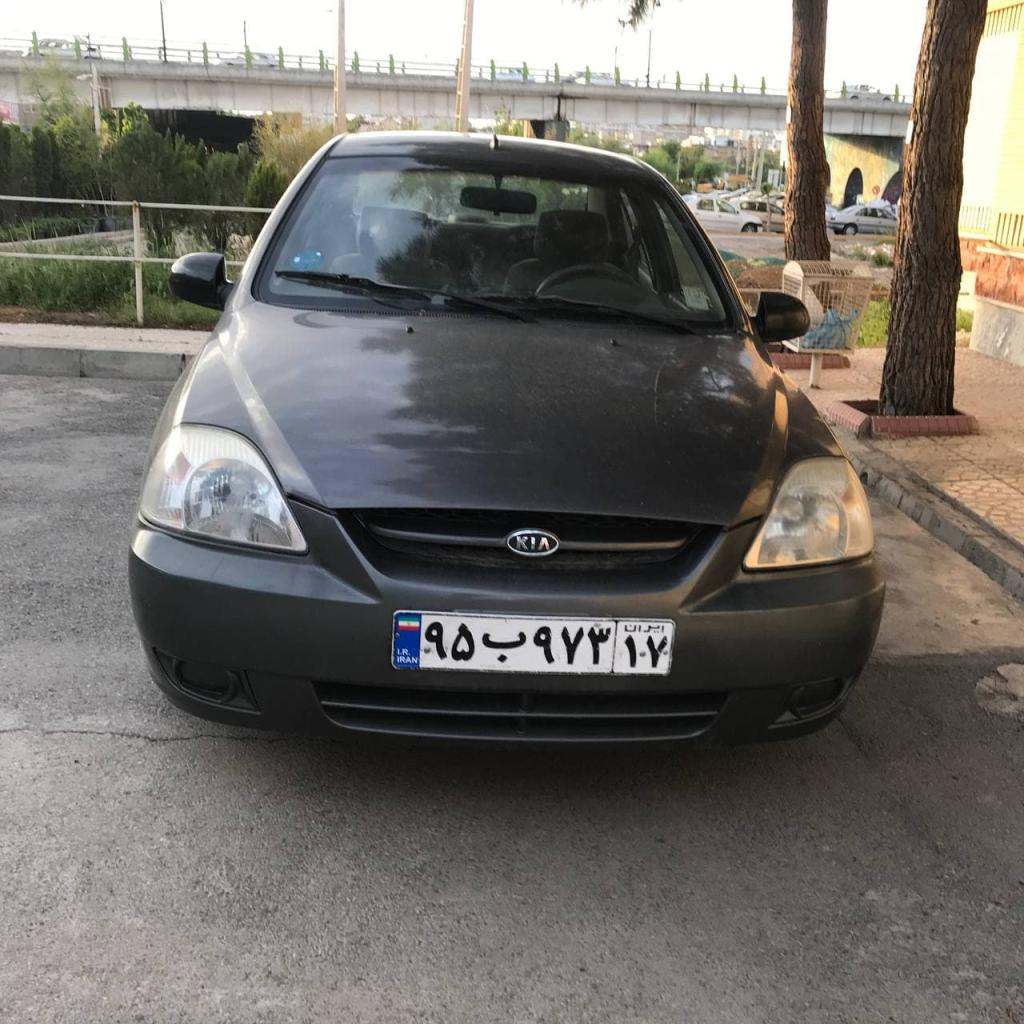Plates: (393, 612, 673, 673)
